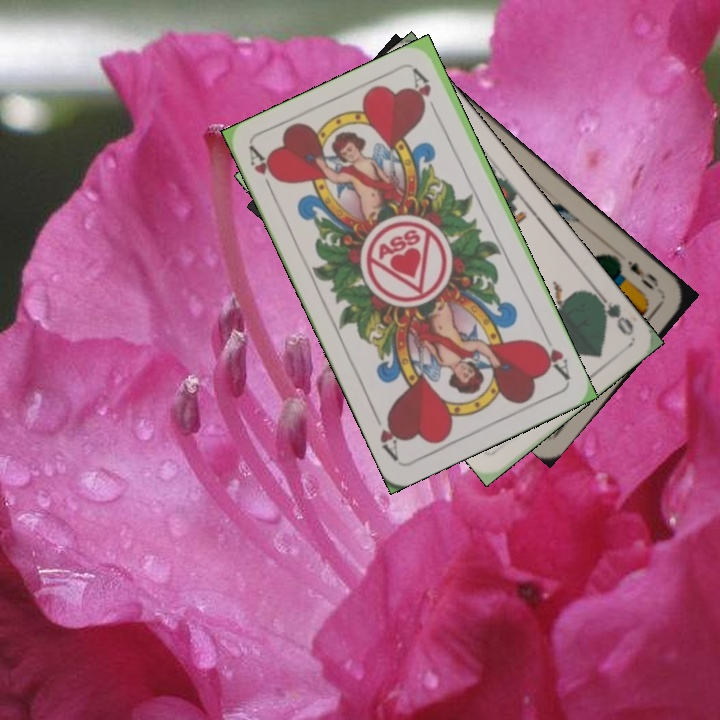EO: (623, 256, 662, 293)
GO: (588, 286, 636, 338)
HA: (533, 327, 573, 383), (245, 143, 283, 200)
